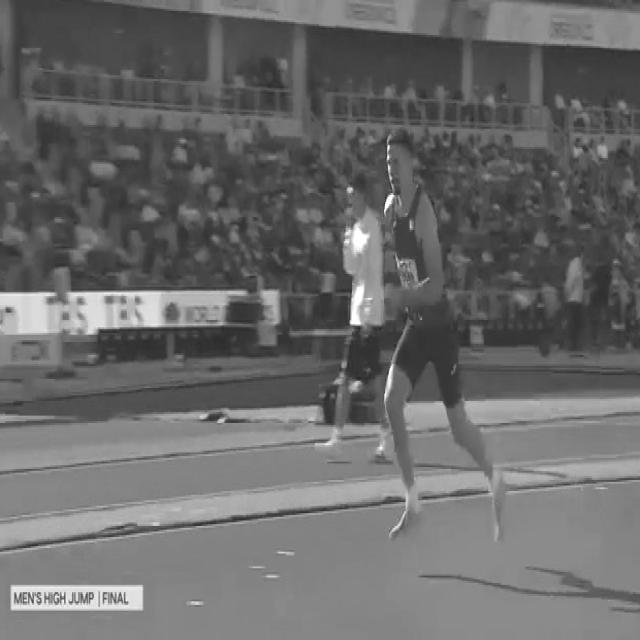run: (371, 132, 512, 548)
